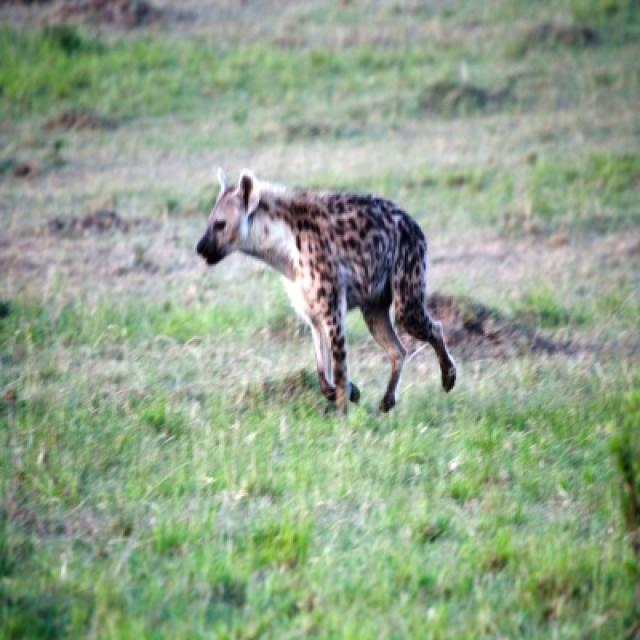hyena: (194, 174, 458, 414)
